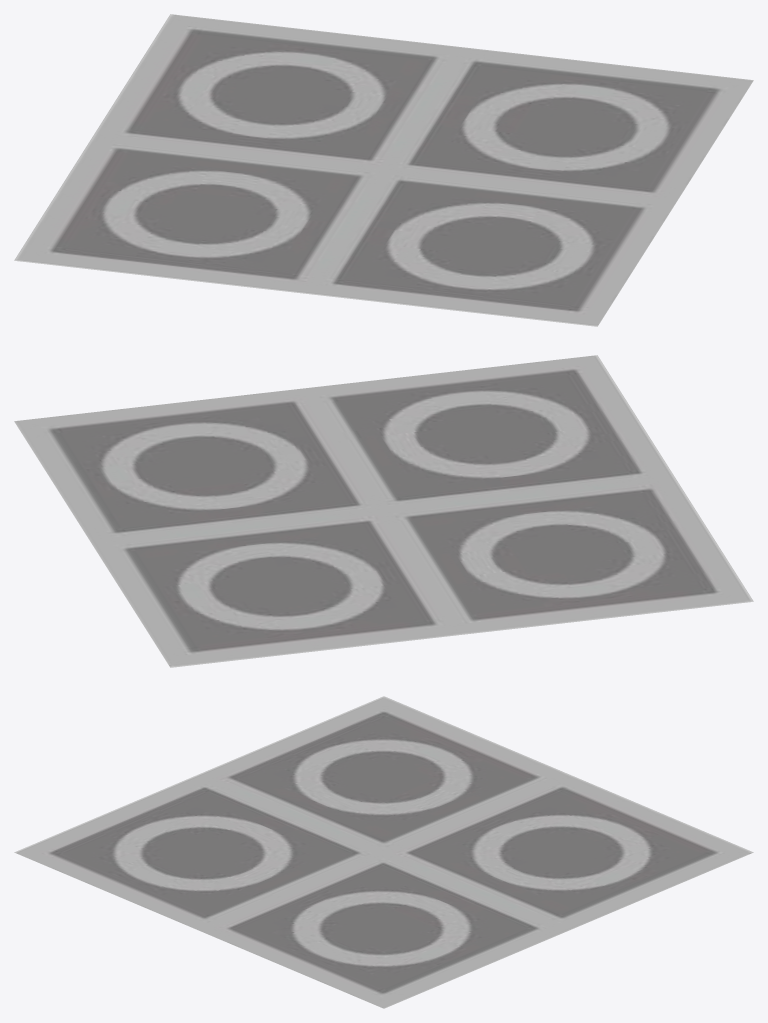
File: w_highway_footway.glb
3 views of the same model, one above another, from view 1: azimuth 30°, elevation 25°; view 2: azimuth 150°, elevation 25°; view 3: azimuth 270°, elevation 25° (orthographic). The views are drawn at different scales.
Parts seen in each view (by area): view 1: Plane; view 2: Plane; view 3: Plane.
Boxes of the visible parts, <box> form: Plane: <box>14,14,753,326</box>; Plane: <box>14,355,753,667</box>; Plane: <box>14,696,753,1008</box>.
Size of the model in its own units: 0.462 by 0 by 0.462.
1 material, 1 textured.
